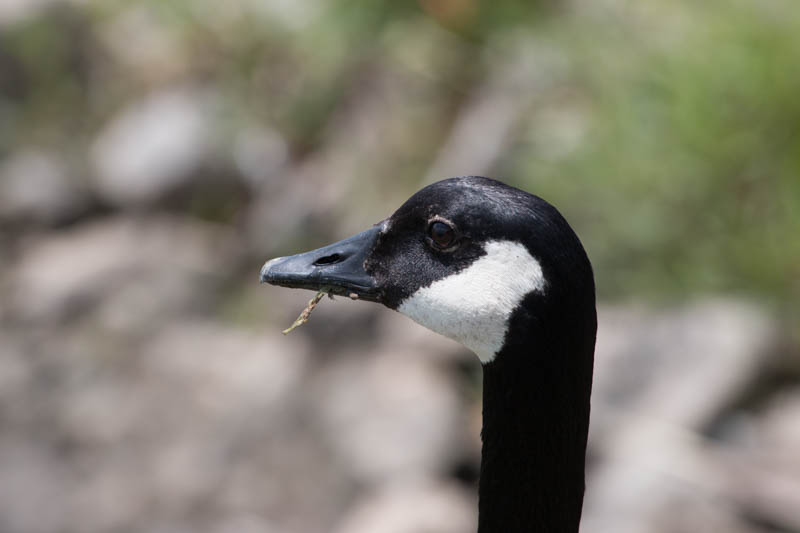goose-head: (259, 177, 597, 365)
